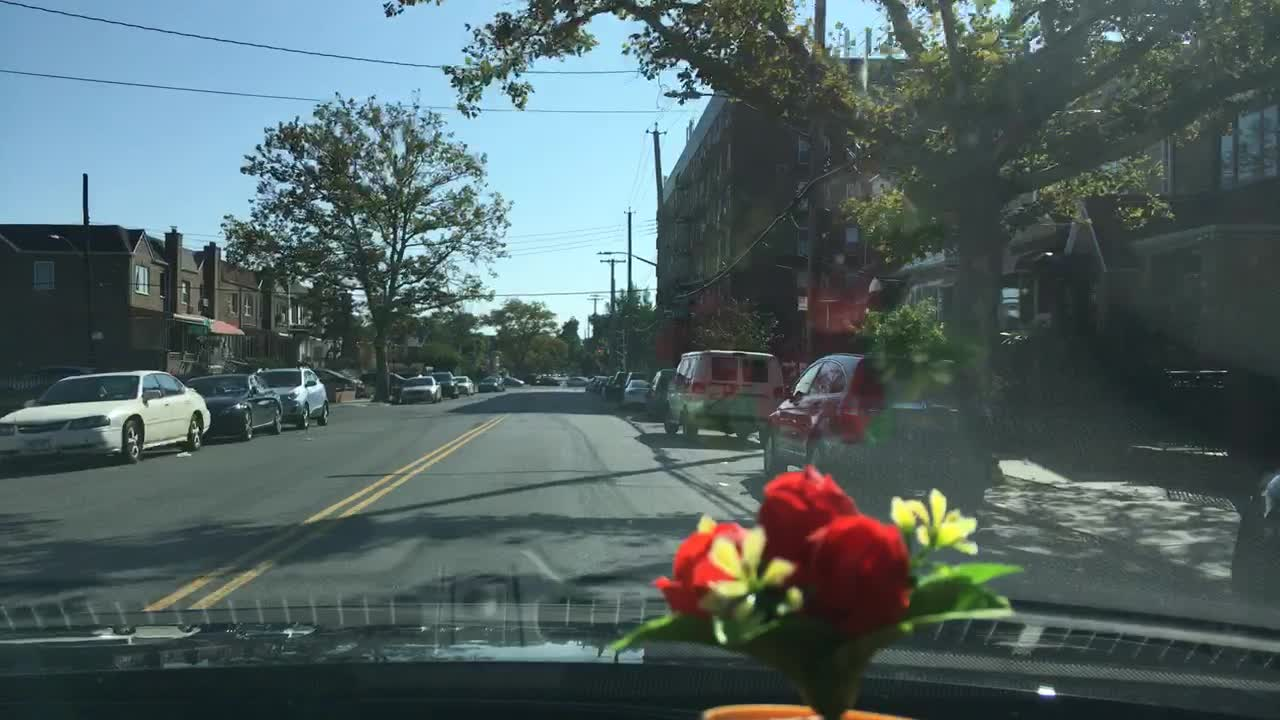car: (761, 354, 997, 514), (1, 368, 210, 463), (665, 350, 780, 442), (1232, 453, 1278, 605), (184, 374, 283, 439), (257, 366, 328, 427), (311, 366, 364, 397), (396, 375, 441, 404), (623, 371, 654, 411), (652, 369, 677, 417), (355, 372, 394, 402), (429, 371, 459, 397), (475, 375, 504, 393), (607, 372, 625, 399), (454, 377, 476, 393), (540, 374, 562, 387), (568, 374, 588, 388), (588, 375, 604, 391), (603, 375, 613, 397), (505, 375, 524, 385)
